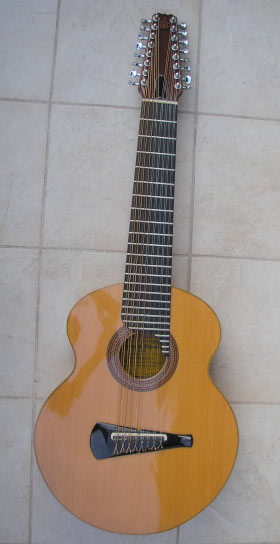guitar: (33, 11, 244, 537)
